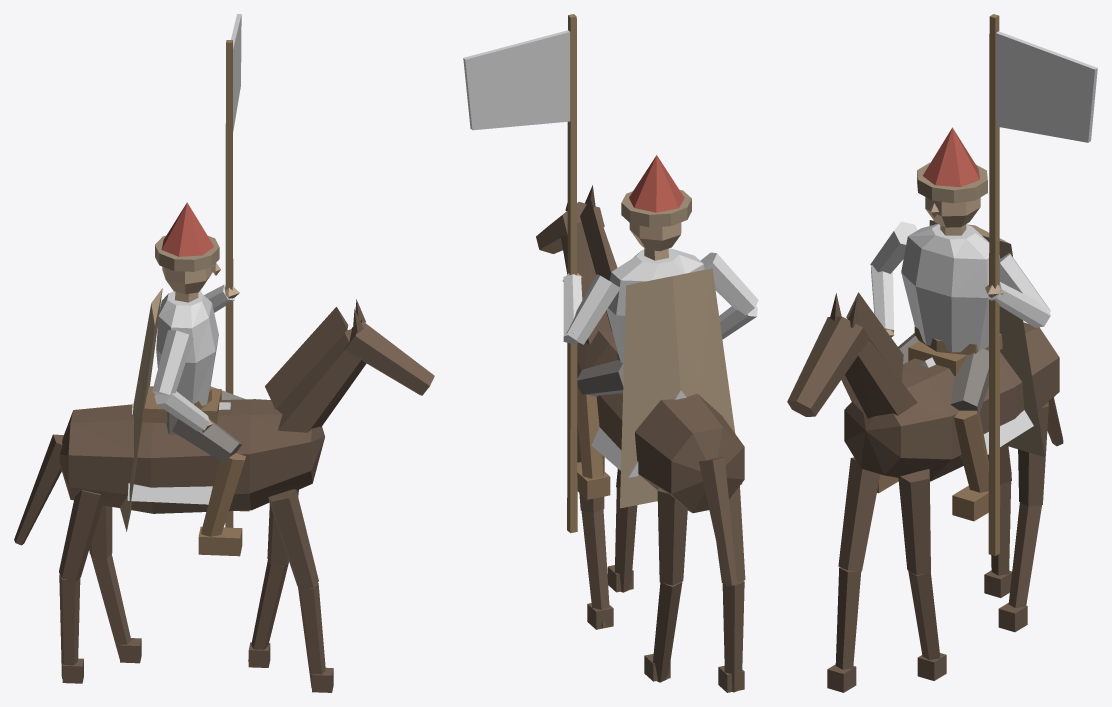
Rendered from khan.glb.
3 views of the same model, side by side, from view 1: azimuth 30°, elevation 25°; view 2: azimuth 150°, elevation 25°; view 3: azimuth 270°, elevation 25° (orthographic). The views are drawn at different scales.
Parts seen in each view (by area): view 1: LOD0; view 2: LOD0; view 3: LOD0.
Part boxes in pixels (x1=…): LOD0: x1=14, y1=14, x2=434, y2=692; LOD0: x1=463, y1=14, x2=758, y2=692; LOD0: x1=787, y1=14, x2=1097, y2=692.
Size of what is drawn, in the model's own units: 0.9264 by 1.75 by 0.7487.
